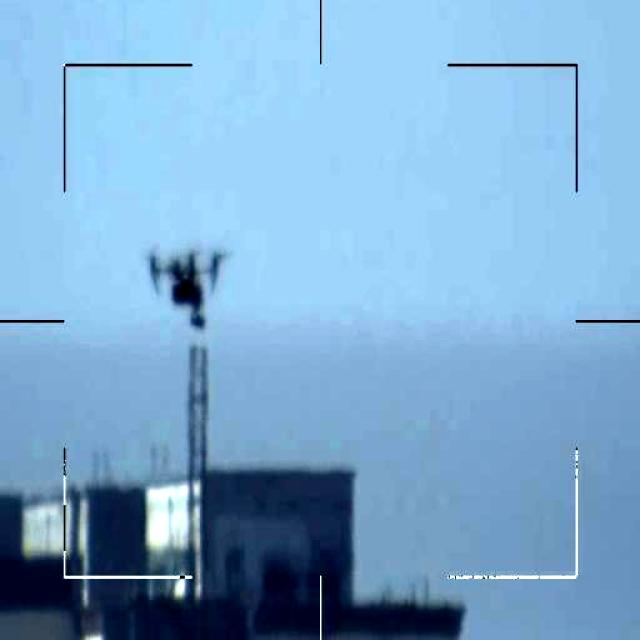bird: (146, 246, 222, 335)
